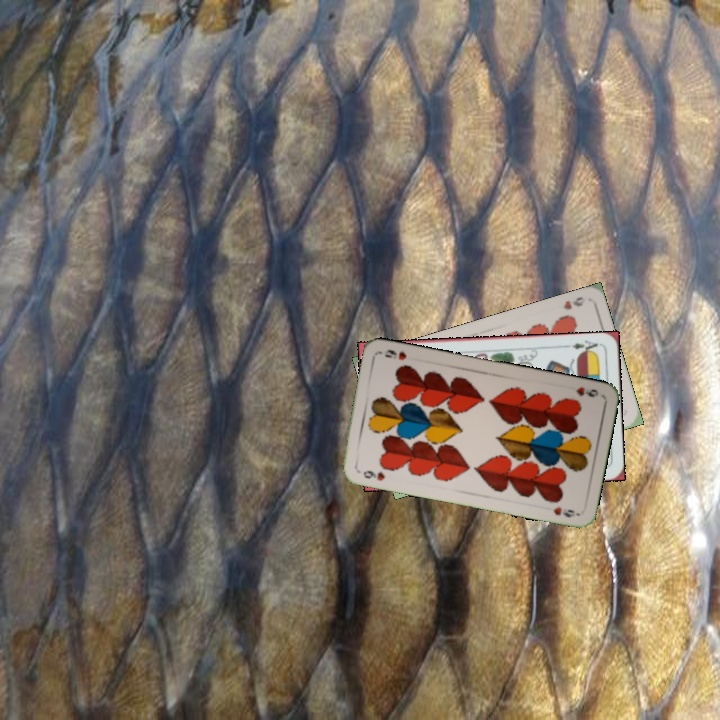EA: (562, 336, 600, 356)
H9: (559, 292, 588, 312), (572, 383, 601, 400), (359, 466, 387, 483)
